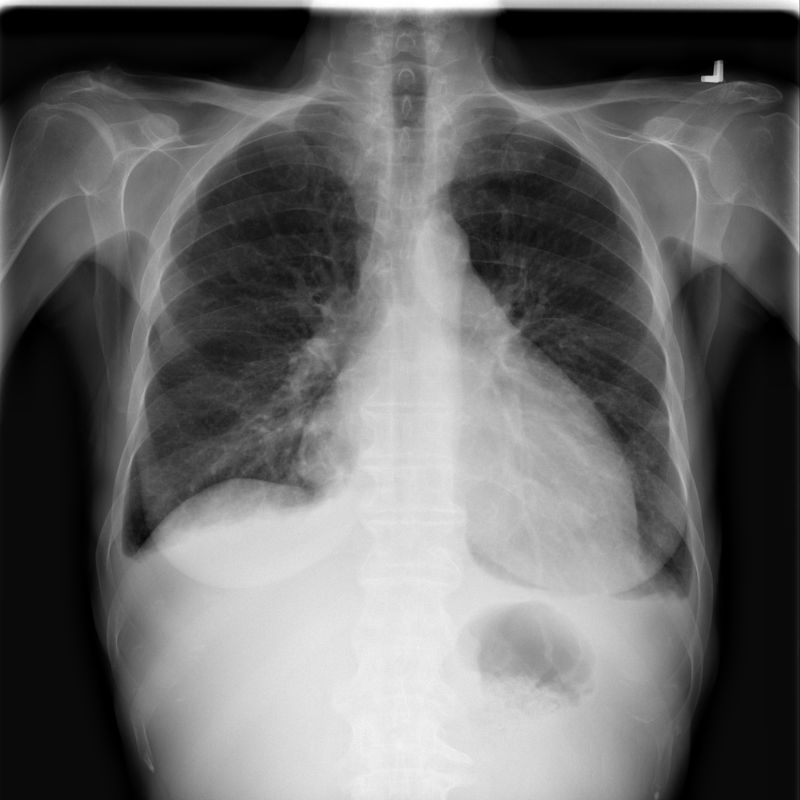Pleural Effusion: (92, 480, 287, 624)
